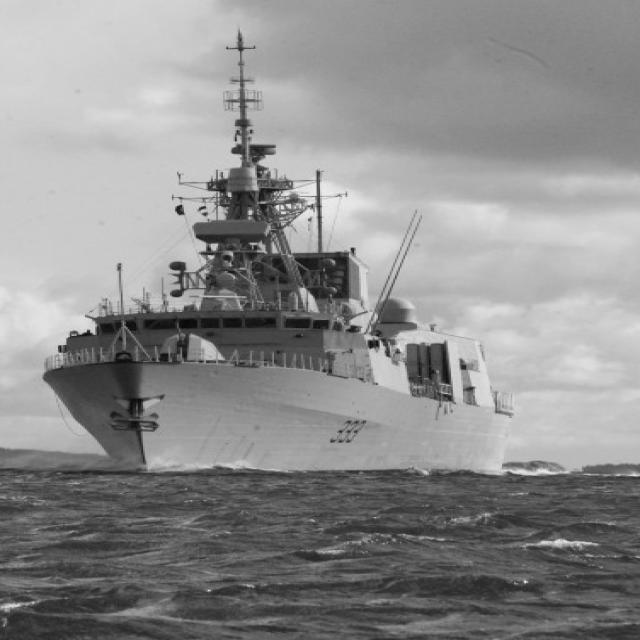Fragata: (39, 16, 519, 485)
